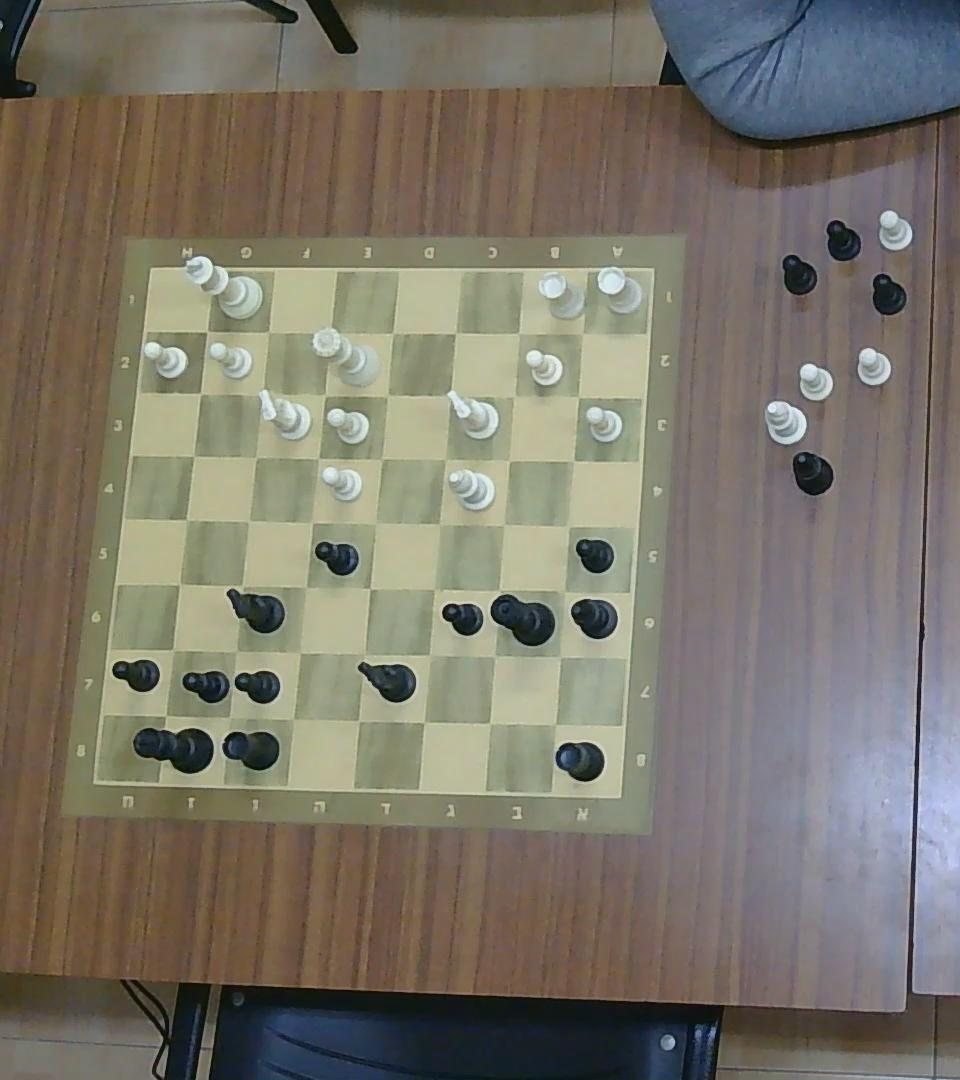xcorner: (215, 703, 242, 730), (477, 709, 503, 735), (153, 702, 179, 728), (280, 705, 305, 732), (167, 571, 192, 596), (543, 711, 568, 736), (346, 707, 370, 733), (549, 643, 573, 669), (287, 640, 311, 665), (412, 709, 436, 734), (161, 637, 185, 662), (229, 573, 253, 597), (482, 642, 505, 667), (236, 507, 259, 532), (491, 512, 514, 536), (174, 507, 197, 531), (427, 512, 450, 536), (350, 641, 374, 664), (318, 320, 341, 344), (419, 643, 442, 666), (487, 577, 510, 600), (224, 639, 246, 663), (196, 318, 218, 342), (562, 448, 584, 472), (363, 511, 385, 534), (557, 513, 579, 536), (359, 577, 381, 600), (422, 577, 444, 600), (438, 383, 460, 406), (251, 381, 272, 405), (182, 444, 204, 466), (568, 385, 590, 407), (245, 446, 267, 468), (371, 447, 392, 470), (552, 581, 575, 602), (301, 509, 321, 533), (295, 575, 315, 599), (444, 321, 465, 343), (258, 321, 279, 343), (381, 321, 402, 343), (498, 449, 518, 471), (189, 382, 209, 404), (434, 448, 454, 469), (376, 384, 396, 405), (504, 384, 524, 405), (308, 446, 327, 468), (508, 322, 528, 342), (573, 323, 592, 344), (315, 384, 334, 405)
